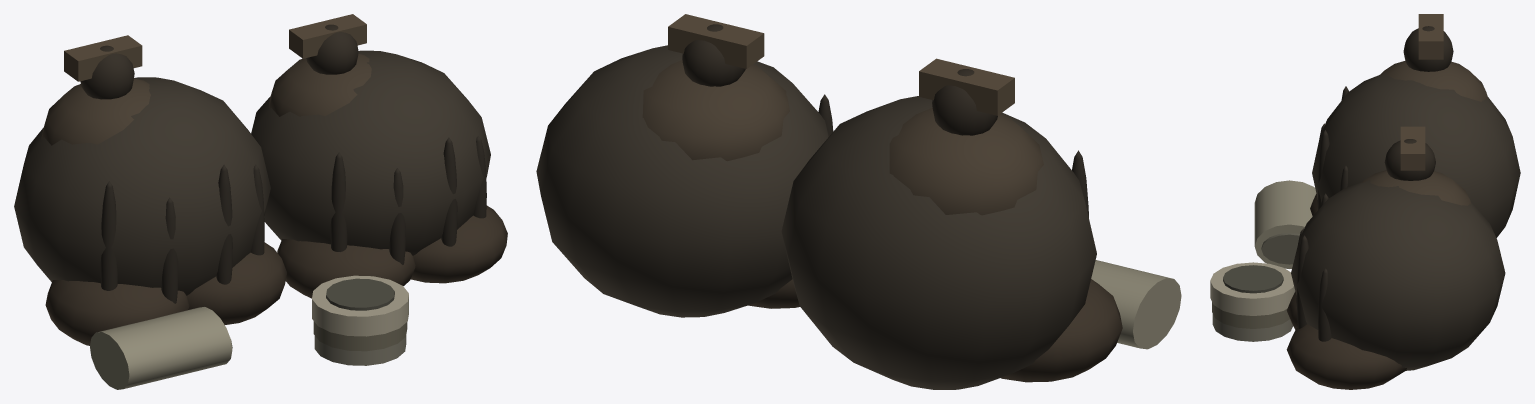
Rendered from CMU3DDecorFloorTrashbags2.glb.
3 renders of one model, left to right at view 1: azimuth 30°, elevation 25°; view 2: azimuth 150°, elevation 25°; view 3: azimuth 270°, elevation 25°, orthographic. The views are drawn at different scales.
Parts seen in each view (by area): view 1: slumped bag body (×2), rumpled lower bag (×4), creased bag fold (×8), gathered bag shoulder (×2), crushed can, knotted bag tie (×2), cinched bag neck (×2), rolled can rim, can seam (×2), dark can top, dented metal can; view 2: slumped bag body (×2), gathered bag shoulder (×2), knotted bag tie (×2), rumpled lower bag (×2), crushed can, cinched bag neck (×2); view 3: slumped bag body (×2), rumpled lower bag, gathered bag shoulder (×2), crushed can, rolled can rim, cinched bag neck (×2), knotted bag tie (×2), creased bag fold (×3), dark can top, can seam (×2), dented metal can, crushed can end.
Part boxes in pixels (bbox=[...]): slumped bag body (×2): bbox=[14, 50, 490, 295]; rumpled lower bag (×4): bbox=[45, 205, 507, 345]; creased bag fold (×8): bbox=[100, 136, 486, 303]; gathered bag shoulder (×2): bbox=[41, 53, 371, 145]; crushed can: bbox=[90, 307, 232, 389]; knotted bag tie (×2): bbox=[64, 14, 366, 81]; cinched bag neck (×2): bbox=[80, 24, 358, 99]; rolled can rim: bbox=[312, 275, 408, 336]; can seam (×2): bbox=[313, 321, 407, 351]; dark can top: bbox=[326, 278, 394, 310]; dented metal can: bbox=[314, 336, 406, 365]; slumped bag body (×2): bbox=[536, 45, 1096, 389]; gathered bag shoulder (×2): bbox=[642, 60, 1043, 215]; knotted bag tie (×2): bbox=[668, 14, 1014, 115]; rumpled lower bag (×2): bbox=[748, 279, 1122, 382]; crushed can: bbox=[1091, 260, 1181, 349]; cinched bag neck (×2): bbox=[682, 24, 997, 135]; slumped bag body (×2): bbox=[1291, 73, 1520, 370]; rumpled lower bag: bbox=[1286, 324, 1406, 389]; gathered bag shoulder (×2): bbox=[1361, 61, 1488, 205]; crushed can: bbox=[1254, 180, 1316, 268]; rolled can rim: bbox=[1210, 262, 1295, 315]; cinched bag neck (×2): bbox=[1384, 26, 1453, 180]; knotted bag tie (×2): bbox=[1400, 14, 1443, 170]; creased bag fold (×3): bbox=[1296, 130, 1331, 341]; dark can top: bbox=[1223, 265, 1283, 293]; can seam (×2): bbox=[1212, 302, 1289, 328]; dented metal can: bbox=[1212, 314, 1292, 341]; crushed can end: bbox=[1261, 233, 1299, 264].
Bounding box in the file's own units: 0.765 × 0.4404 × 0.5354.
